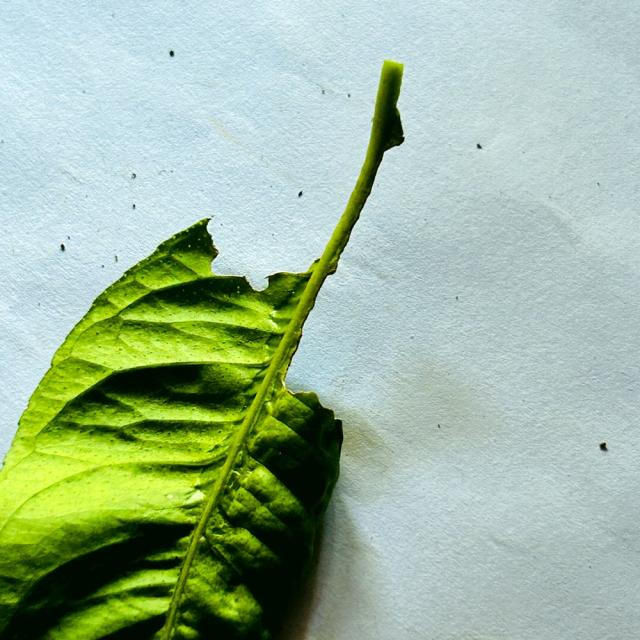Deficiency Leaf: (284, 141, 409, 460), (196, 129, 337, 288)
Lemon: (0, 67, 401, 639)
